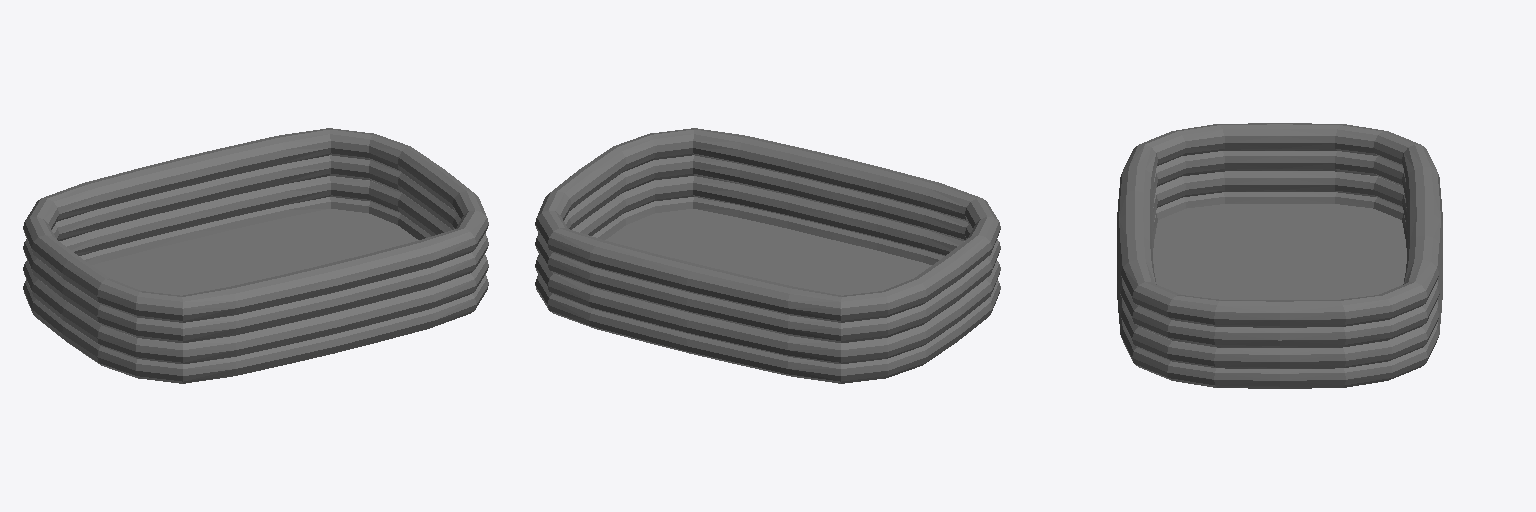
Rendered from pool.obj.
3 renders of one model, left to right at view 1: azimuth 30°, elevation 25°; view 2: azimuth 150°, elevation 25°; view 3: azimuth 270°, elevation 25°, orthographic.
Parts seen in each view (by area): view 1: Torus004, Torus002, Torus003, Plane001, Torus001; view 2: Torus004, Torus002, Torus003, Plane001, Torus001; view 3: Torus004, Plane001, Torus002, Torus003, Torus001.
Part boxes in pixels (x1,y1,x2,y2): Torus004: (23,128,488,322); Torus002: (23,176,488,363); Torus003: (23,155,488,342); Plane001: (92,209,418,295); Torus001: (23,197,488,383); Torus004: (535,128,1000,322); Torus002: (535,176,1000,363); Torus003: (535,155,1000,342); Plane001: (605,209,931,295); Torus001: (535,197,1000,383); Torus004: (1117,123,1442,327); Plane001: (1153,204,1406,299); Torus002: (1117,171,1442,368); Torus003: (1117,151,1442,347); Torus001: (1117,192,1442,388).
Bounding box in the file's own units: 67.71 × 14.34 × 49.39.